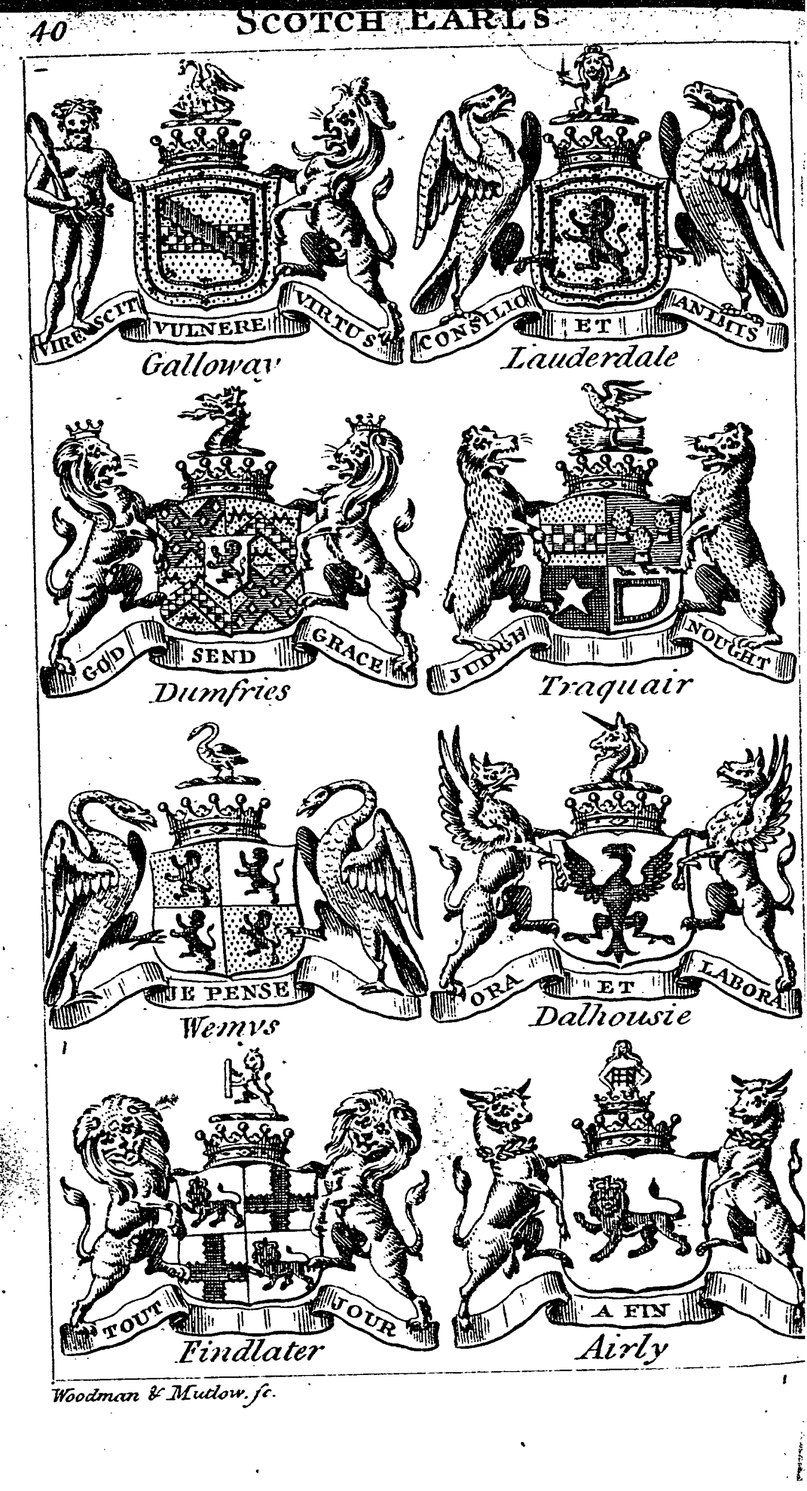coat_of_arms: (32, 388, 416, 714), (59, 1040, 442, 1365), (25, 64, 410, 385), (419, 378, 800, 700), (430, 709, 800, 1040), (419, 58, 799, 376), (37, 721, 425, 1031), (452, 1045, 805, 1354)
